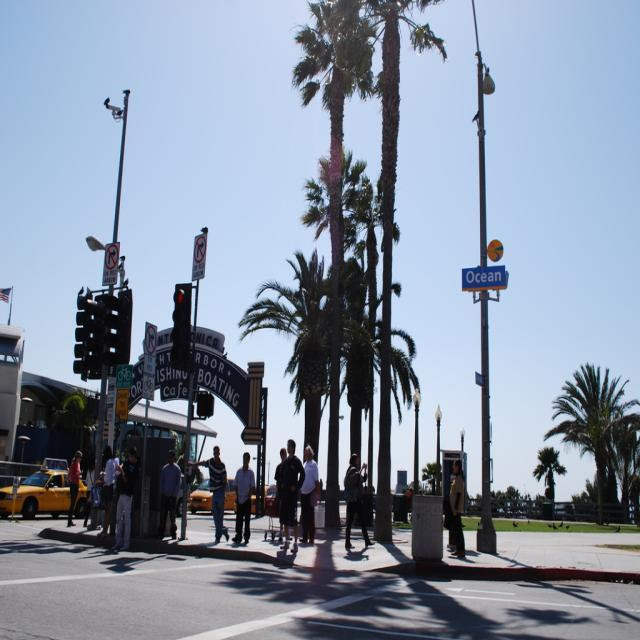off traffic light: (92, 290, 112, 366), (74, 296, 91, 374), (115, 292, 134, 360)
road_sign: (192, 231, 208, 265), (104, 242, 121, 271)
traffic light: (169, 282, 190, 364)
